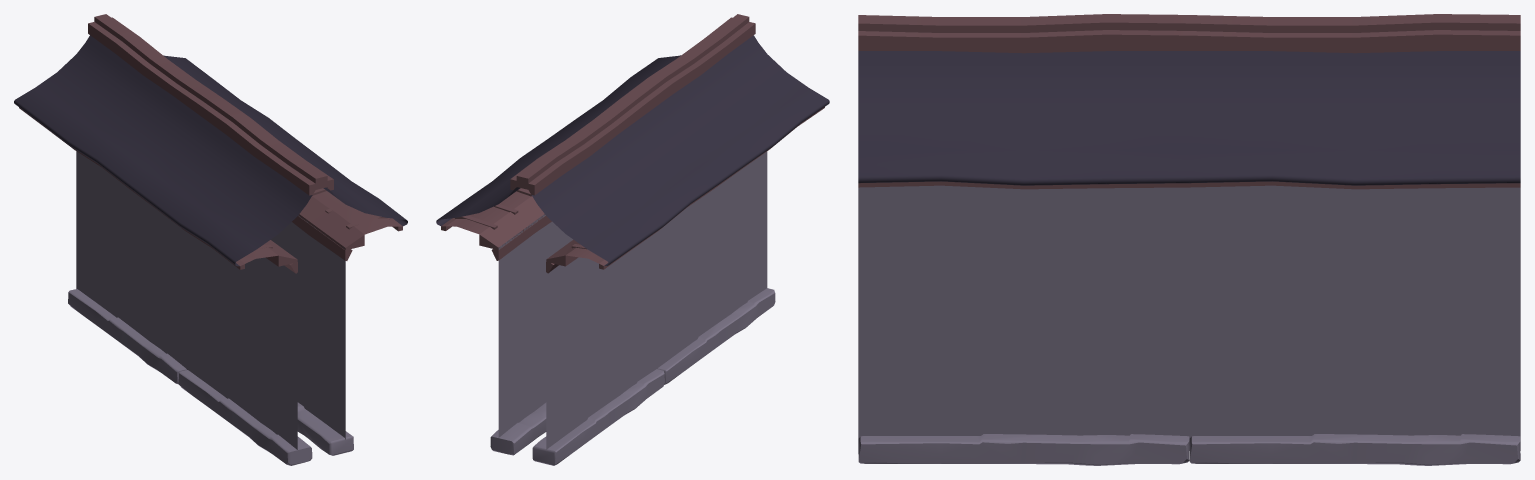
File: wall_fence.fbx
3 renders of one model, left to right at view 1: azimuth 30°, elevation 25°; view 2: azimuth 150°, elevation 25°; view 3: azimuth 270°, elevation 25°, orthographic. The views are drawn at different scales.
Visible parts, largest first — view 1: wall_fence; view 2: wall_fence; view 3: wall_fence.
Boxes of the visible parts, x1,y1,x2,y2 form: wall_fence: (14, 14, 407, 465); wall_fence: (436, 14, 829, 465); wall_fence: (858, 14, 1520, 465).
Bounding box in the file's own units: 360 × 565 × 800.
